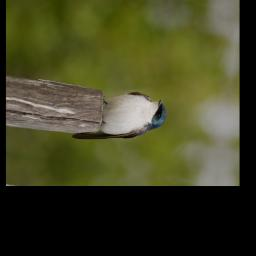Swallow: (70, 81, 173, 152)
